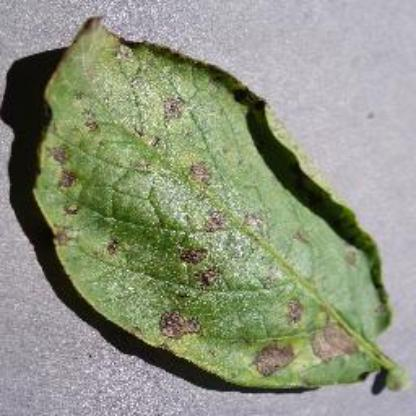Early-Blight: (30, 6, 416, 398)
